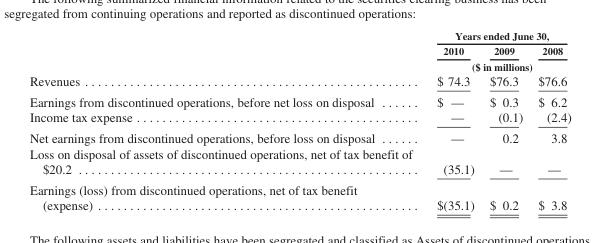table: (28, 29, 570, 212)
table column: (28, 29, 424, 212), (424, 29, 481, 212), (481, 29, 529, 212), (529, 29, 570, 212)
table column header: (28, 29, 570, 72)
table row: (28, 145, 570, 179), (28, 179, 570, 212), (28, 72, 570, 91), (28, 91, 570, 109), (28, 109, 570, 127), (28, 127, 570, 145), (28, 42, 570, 58), (28, 58, 570, 72), (28, 29, 570, 42)
table spanning cell: (424, 58, 570, 72), (424, 29, 570, 42)
